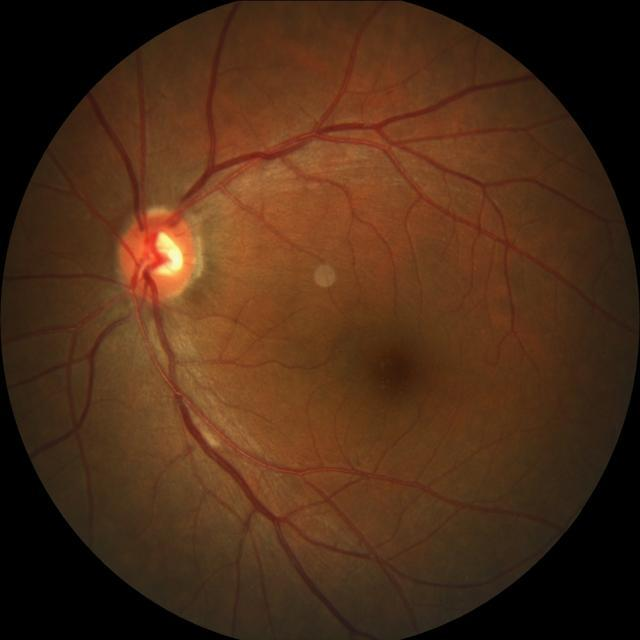OC: (146, 232, 186, 280)
OD: (116, 206, 198, 302)
